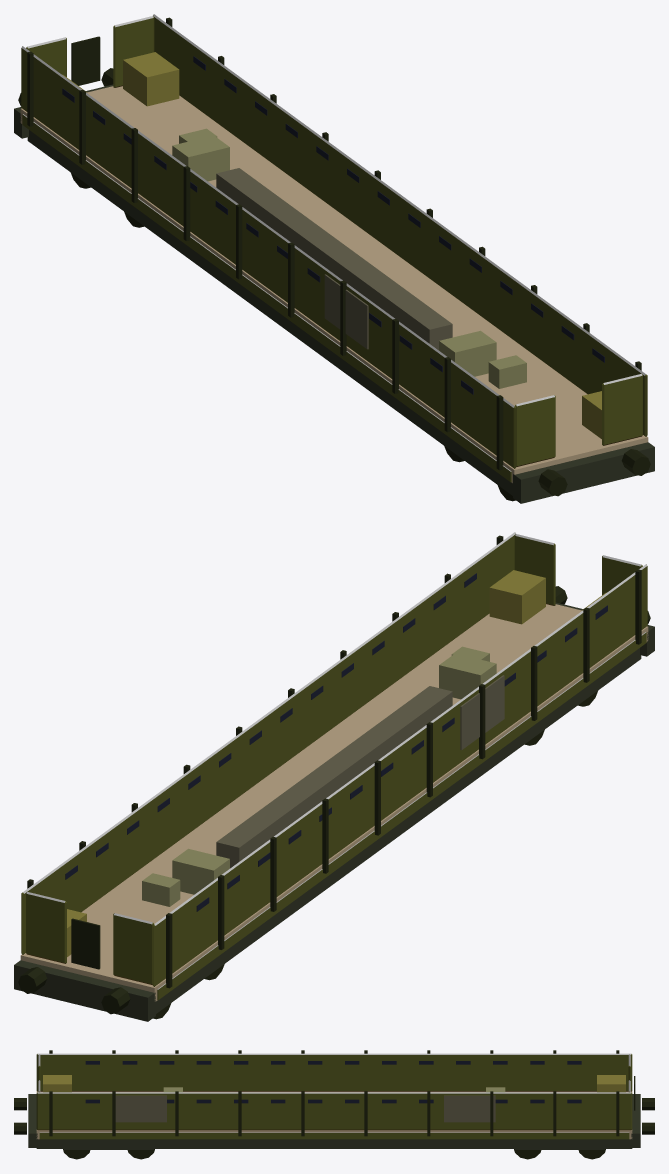
File: SM_R2_VagonTropa_LOD0.fbx
3 renders of one model, top to bottom at view 1: azimuth 30°, elevation 25°; view 2: azimuth 150°, elevation 25°; view 3: azimuth 270°, elevation 25°, orthographic. The views are drawn at different scales.
Visible parts, largest first — view 1: SM_vagon_tropa_r2_LOD0; view 2: SM_vagon_tropa_r2_LOD0; view 3: SM_vagon_tropa_r2_LOD0.
Part boxes in pixels (x1,y1,x2,y2): SM_vagon_tropa_r2_LOD0: [14, 14, 654, 503]; SM_vagon_tropa_r2_LOD0: [14, 532, 654, 1021]; SM_vagon_tropa_r2_LOD0: [14, 1050, 654, 1159].
Size of the model in its own units: 3.08 by 2.6 by 19.9.
